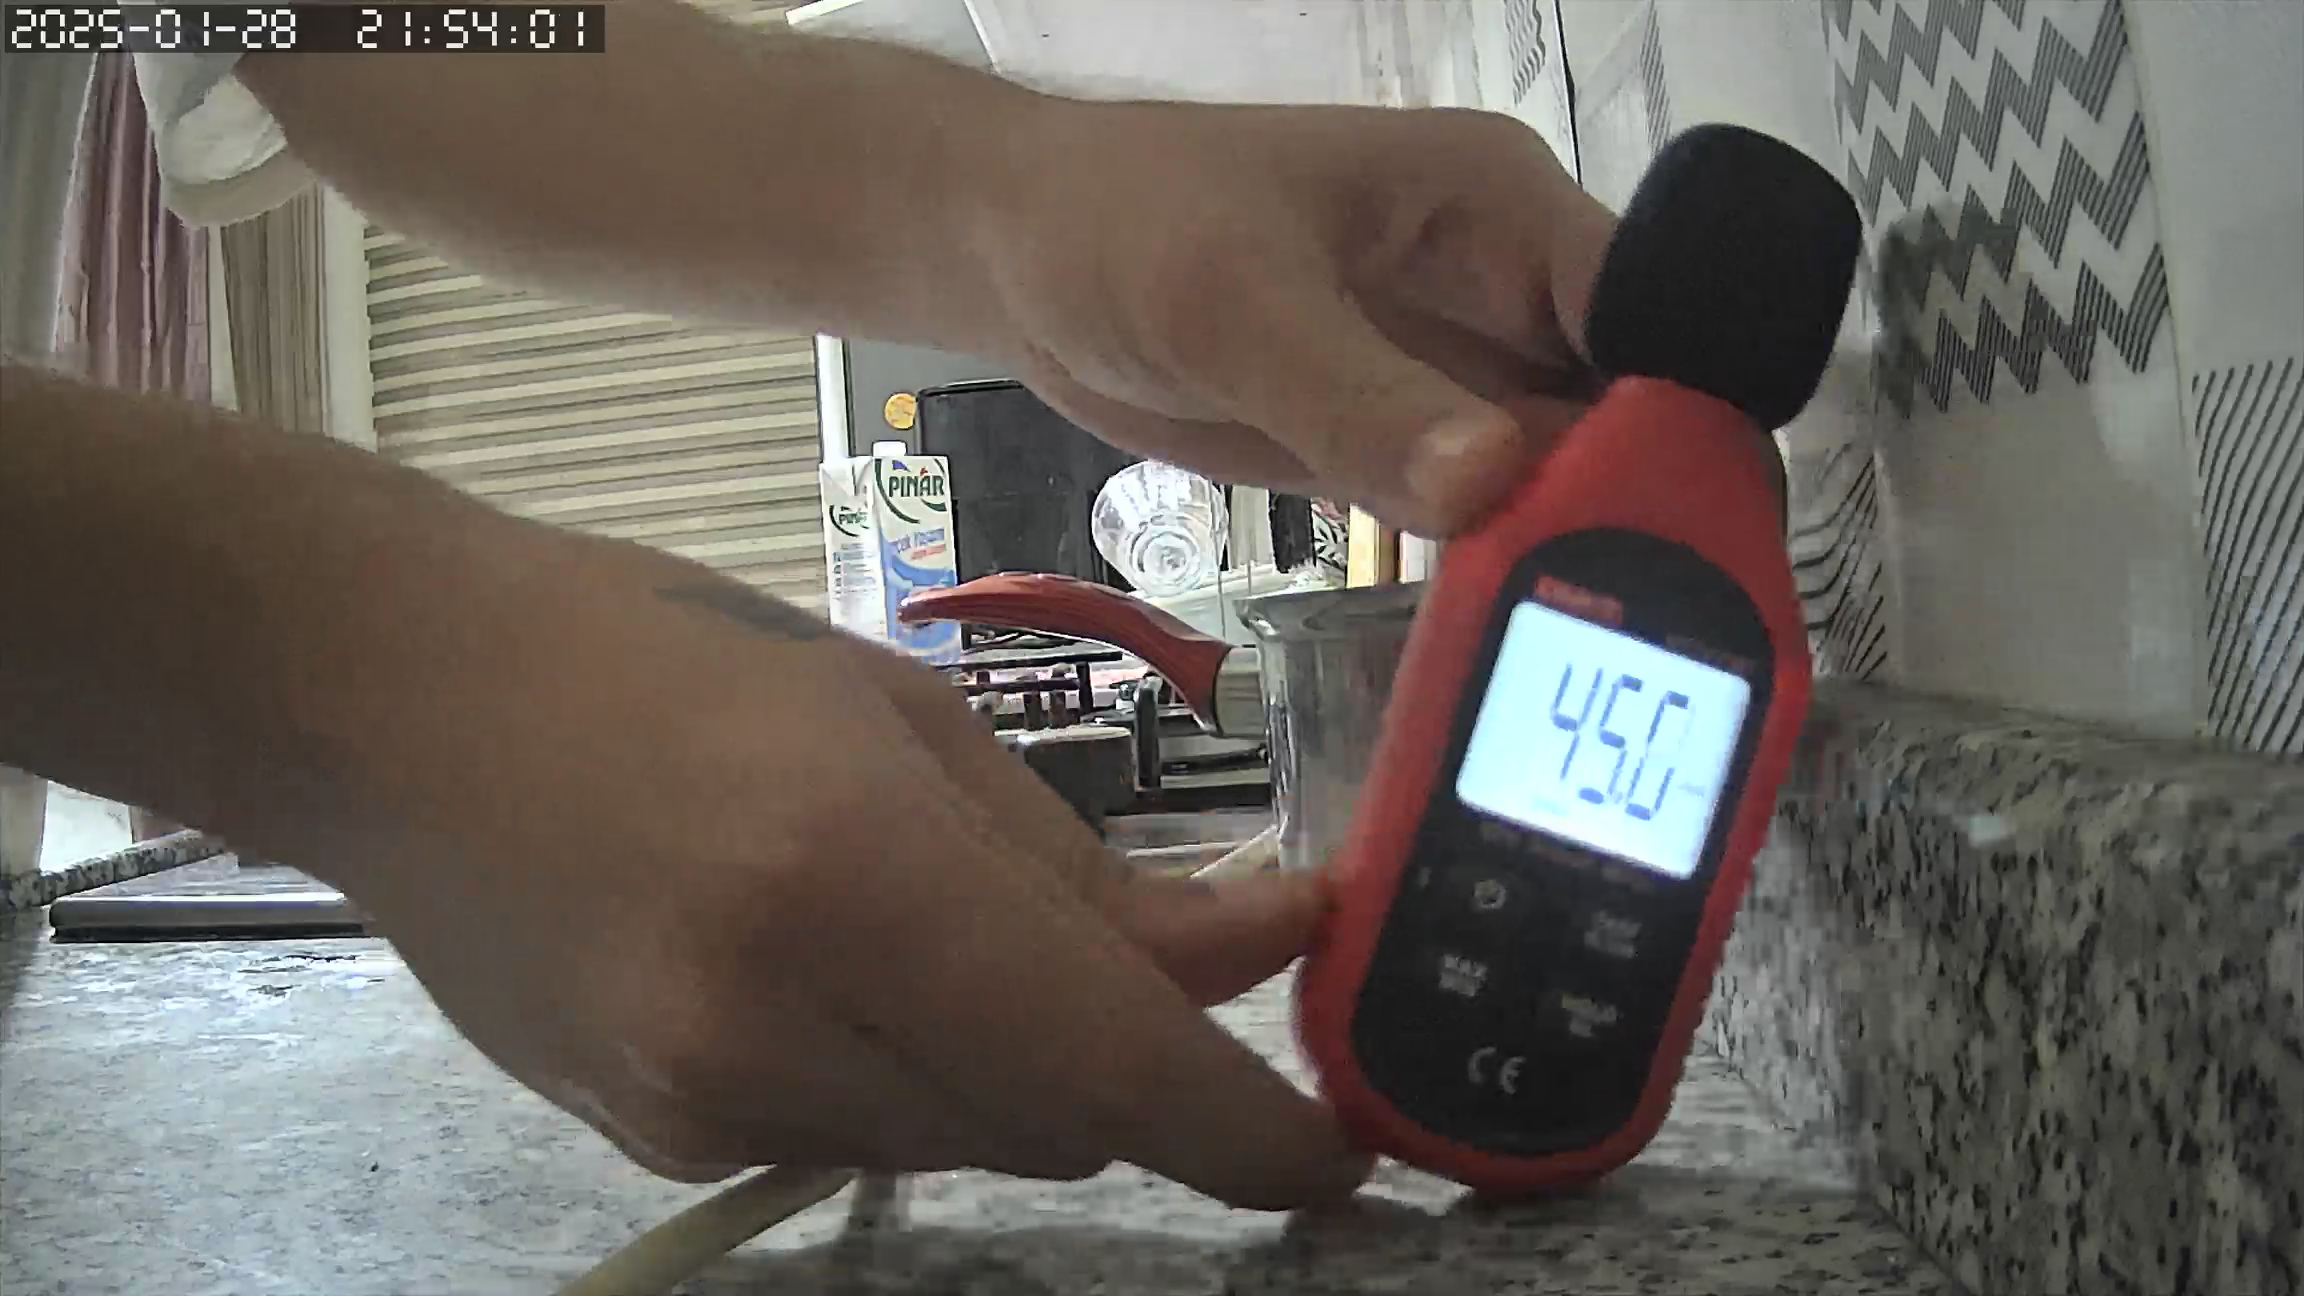screen: (1451, 600, 1752, 885)
